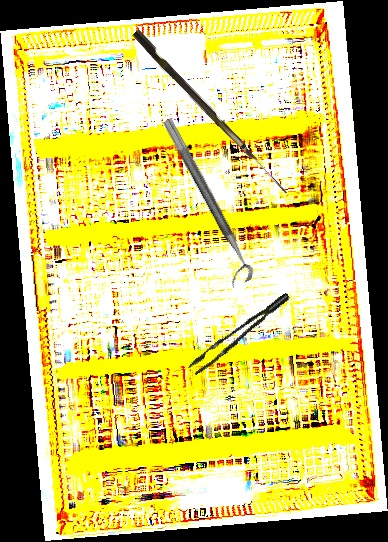Fixation Ring: (149, 117, 257, 289)
Hook Surgical: (129, 29, 295, 194)
Tissue Forceps: (181, 292, 299, 377)
